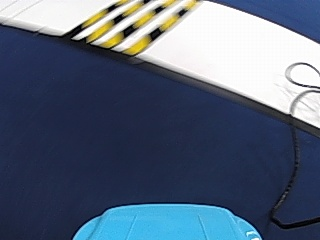bump: (66, 2, 179, 48)
